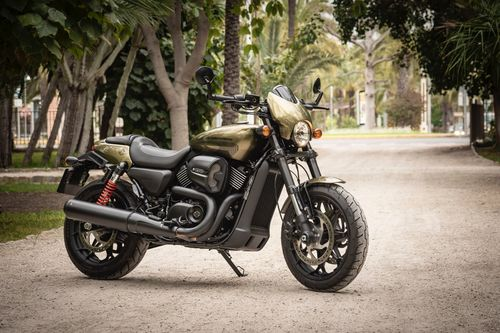摩托车: (45, 85, 384, 292)
